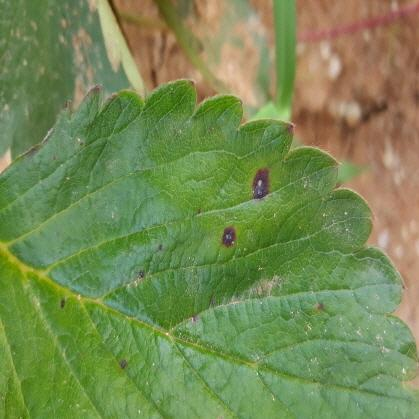Leaf Spot: (0, 78, 418, 418)
